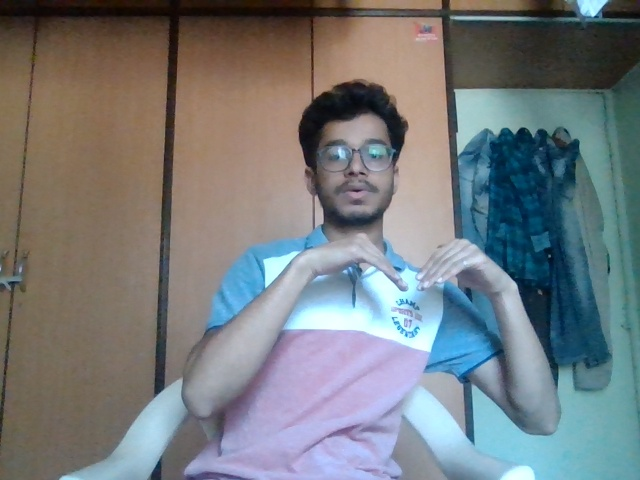we: (275, 216, 523, 331)
